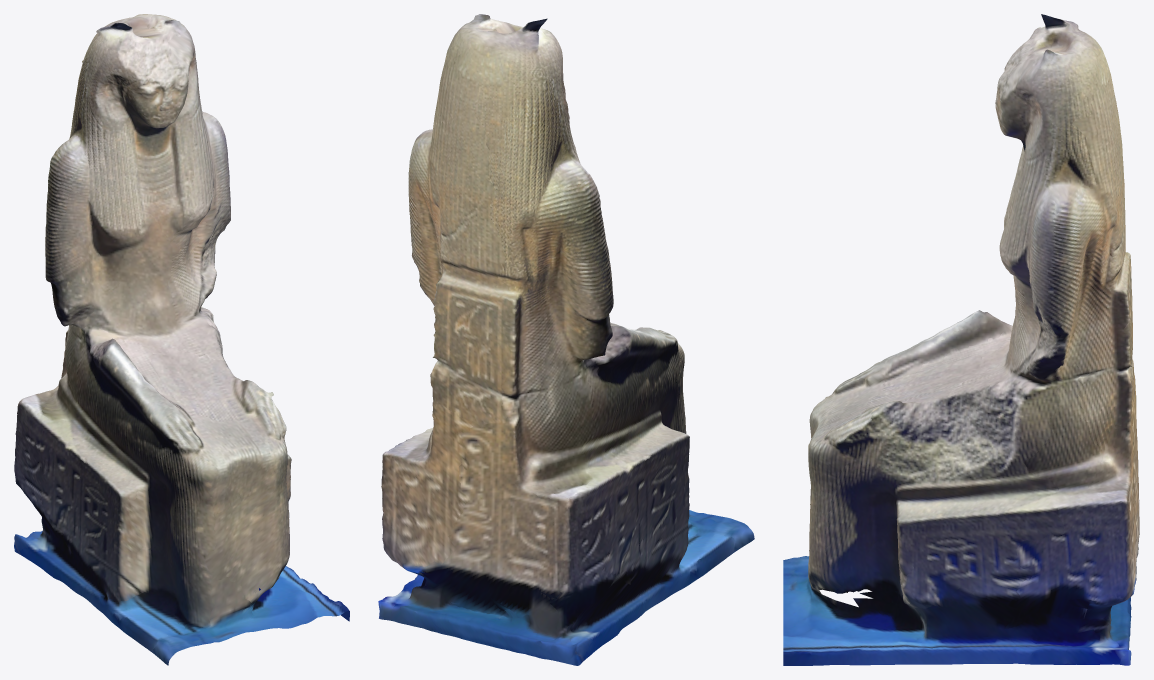
Rendered from statue_of_queen_tuya_ramses_ii_mother.glb.
3 views of the same model, side by side, from view 1: azimuth 30°, elevation 25°; view 2: azimuth 150°, elevation 25°; view 3: azimuth 270°, elevation 25° (orthographic). The views are drawn at different scales.
Visible parts, largest first — view 1: Object_2; view 2: Object_2; view 3: Object_2.
Part boxes in pixels (x1,y1,x2,y2): Object_2: (14, 14, 349, 665); Object_2: (378, 14, 754, 665); Object_2: (783, 14, 1139, 665).
Bounding box in the file's own units: 0.5898 × 1.65 × 0.9016.
Materials: 1 (1 with a texture image).
